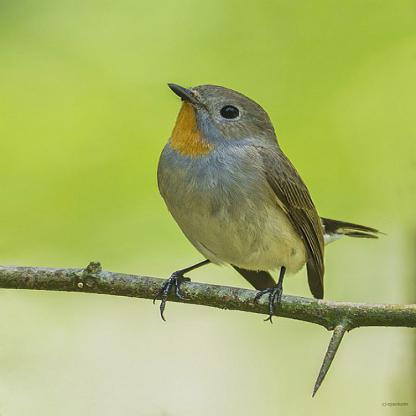Burung: (129, 80, 391, 324)
